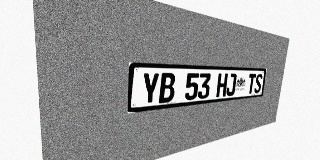3: (197, 73, 211, 99)
5: (185, 73, 199, 100)
B: (159, 73, 176, 103)
H: (216, 73, 228, 97)
J: (226, 73, 237, 96)
S: (254, 74, 263, 93)
T: (247, 74, 256, 94)
Y: (141, 72, 160, 105)
